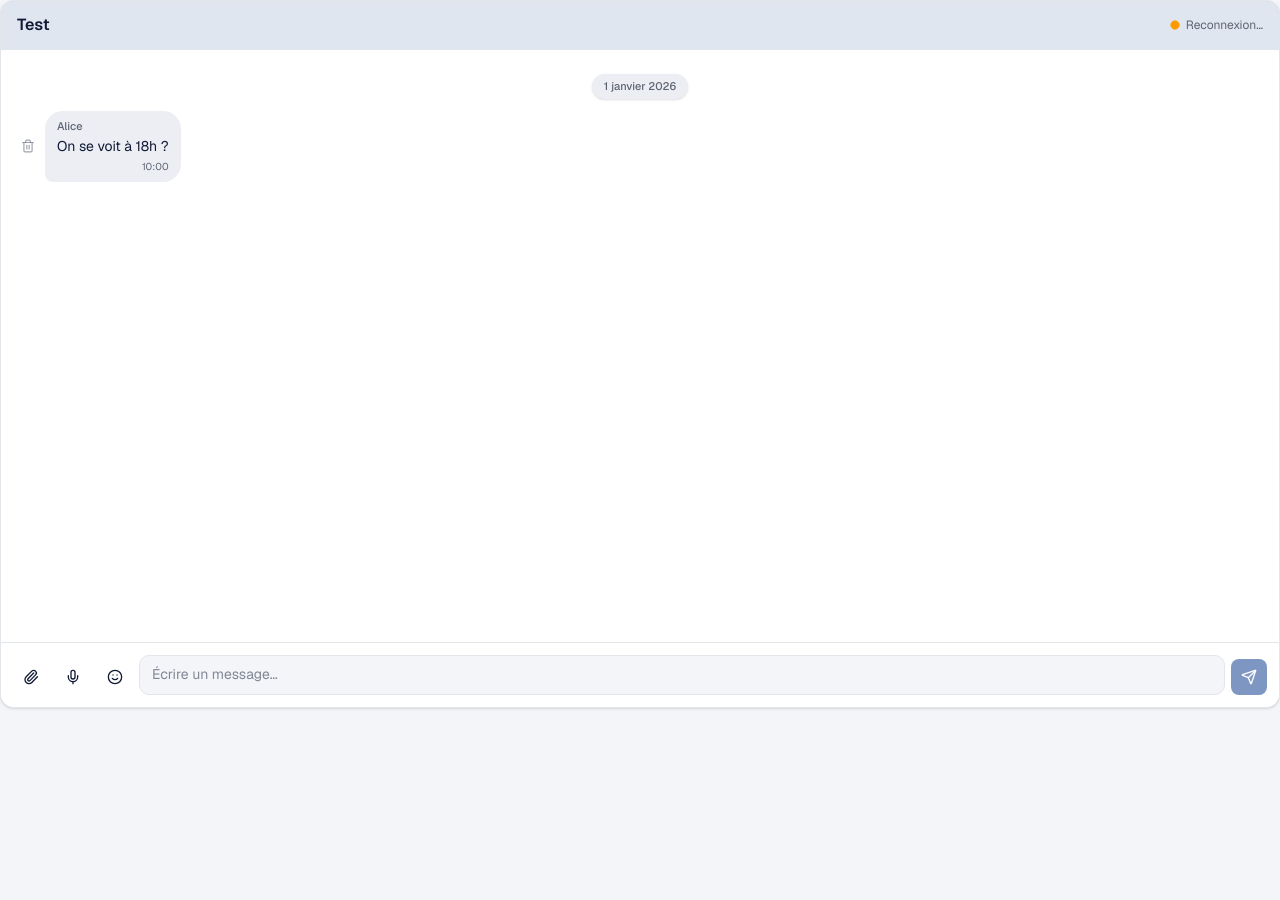
ChatConversation — réactions emoji › shows the six click reactions and sends chat:react for one of them
The width and height of the screenshot is (1280, 900).
Click the text "On se voit à 18h ?" at point(113, 146), box top-left (57, 136), bottom-right (169, 156)
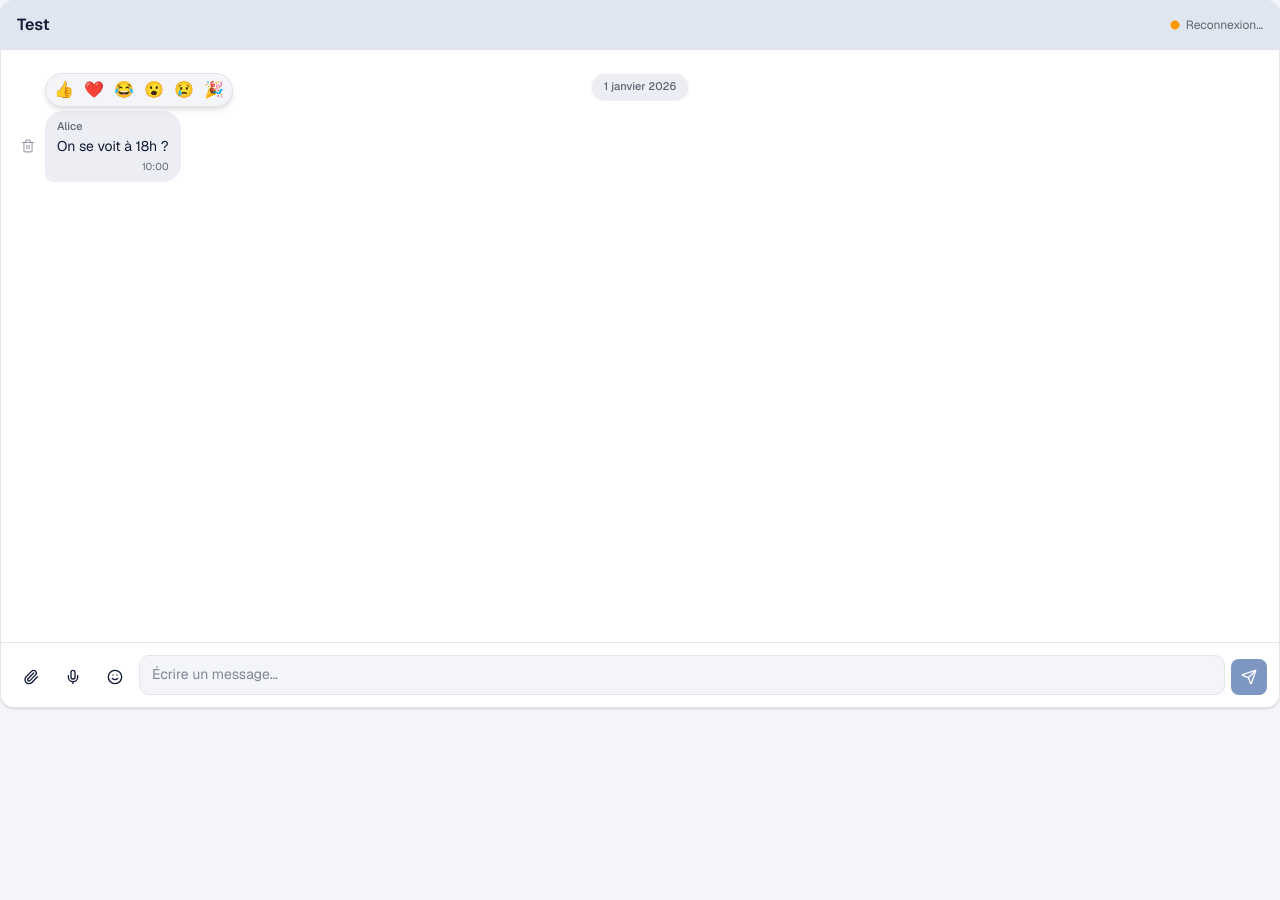
Result: the button named "Réagir avec 👍" is shown
Result: the button named "Réagir avec 😂" is shown at top-left (110, 76), bottom-right (138, 104)
Click the button named "Réagir avec 👍" at point(64, 90), box top-left (50, 76), bottom-right (78, 104)
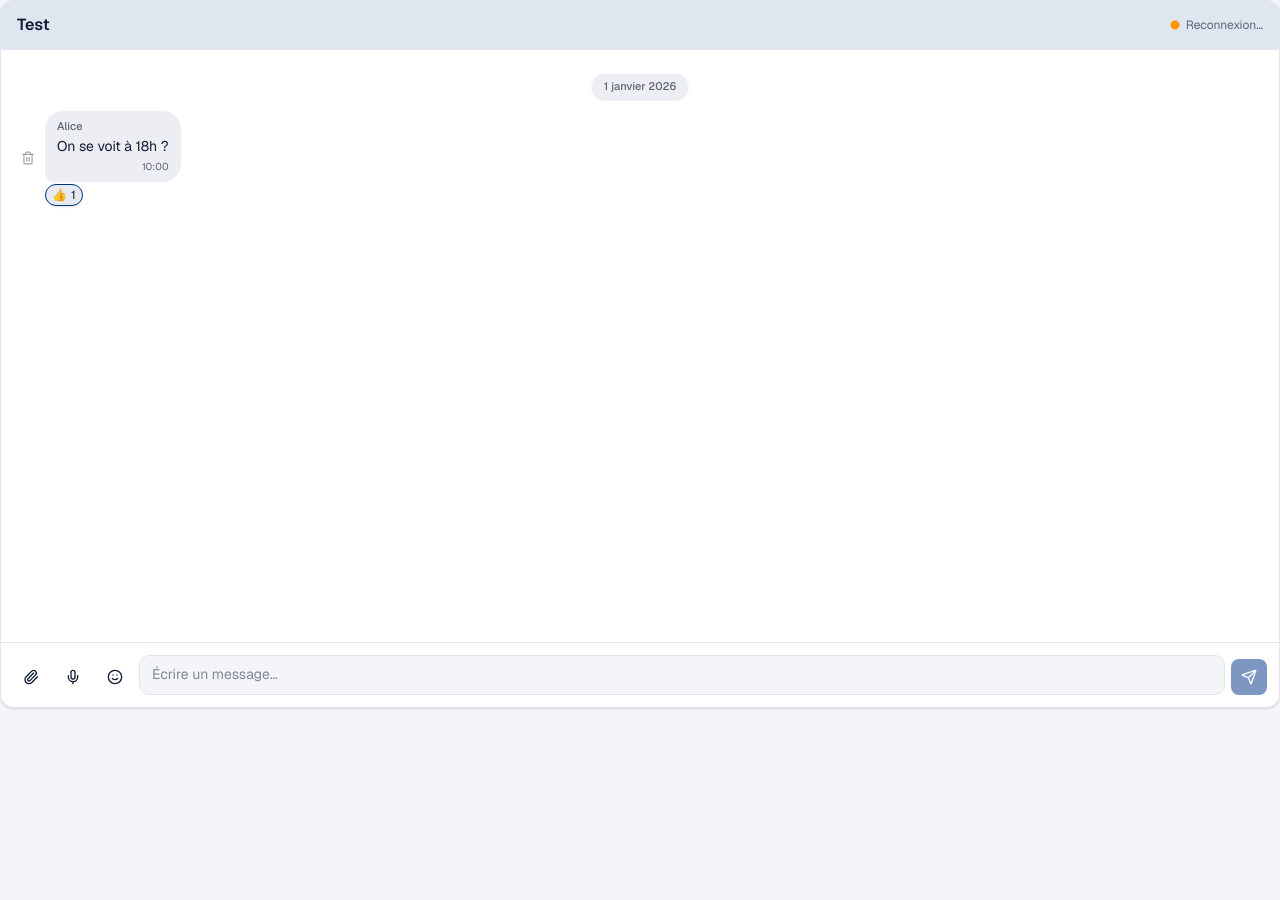
Result: the button named "👍, 1 réaction" is shown at top-left (45, 184), bottom-right (83, 206)
